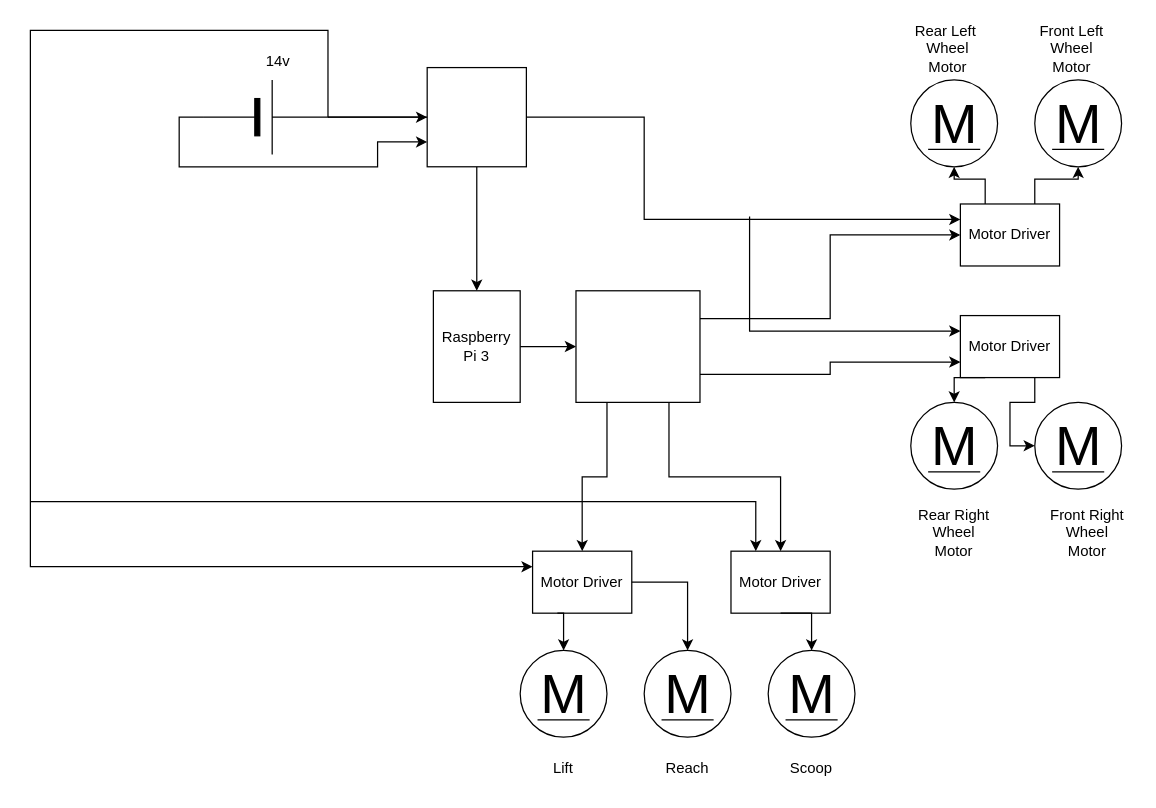
The diagram is 1156 pixels wide and 808 high, and some of its shapes have lost their labels. The box of each missing label's shape, as (x1, y1, x2, y2) in pixels:
16 Channel PWM: (575, 290, 700, 402)
Buck Converter: (426, 66, 526, 167)
